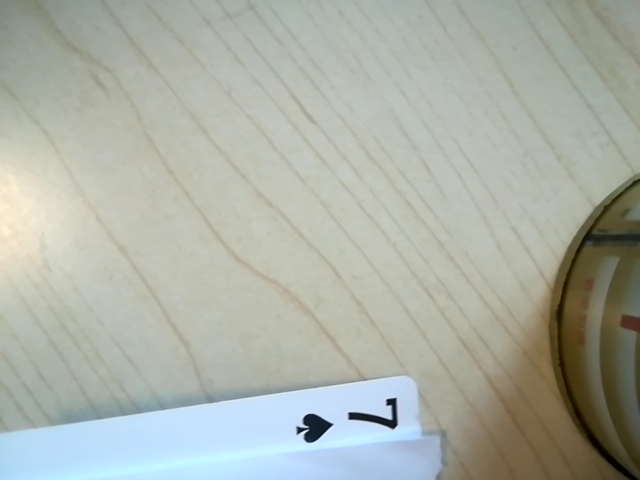ht 7: (279, 389, 427, 457)
